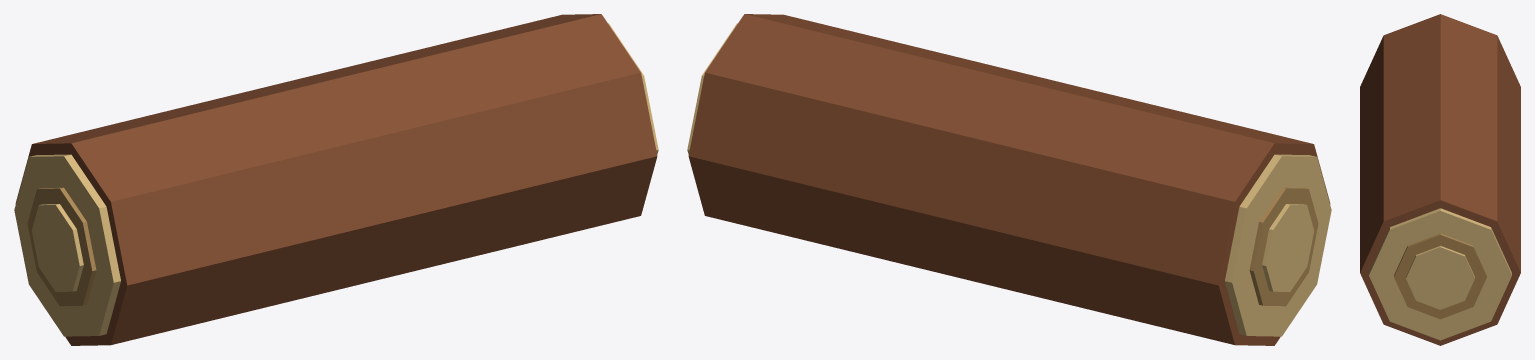
File: item-log.glb
3 views of the same model, side by side, from view 1: azimuth 30°, elevation 25°; view 2: azimuth 150°, elevation 25°; view 3: azimuth 270°, elevation 25° (orthographic). The views are drawn at different scales.
Visible parts, largest first — view 1: item-log game mesh; view 2: item-log game mesh; view 3: item-log game mesh.
Part boxes in pixels (bbox=[...]): item-log game mesh: bbox=[14, 14, 658, 345]; item-log game mesh: bbox=[687, 14, 1331, 345]; item-log game mesh: bbox=[1360, 14, 1520, 345].
Bounding box in the file's own units: 1.22 × 0.42 × 0.42.
